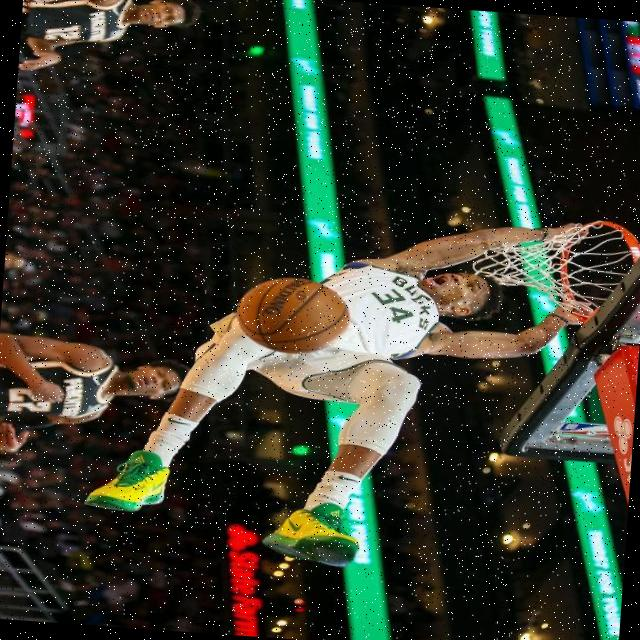ball: (231, 269, 358, 359)
hoop: (554, 215, 640, 329)
